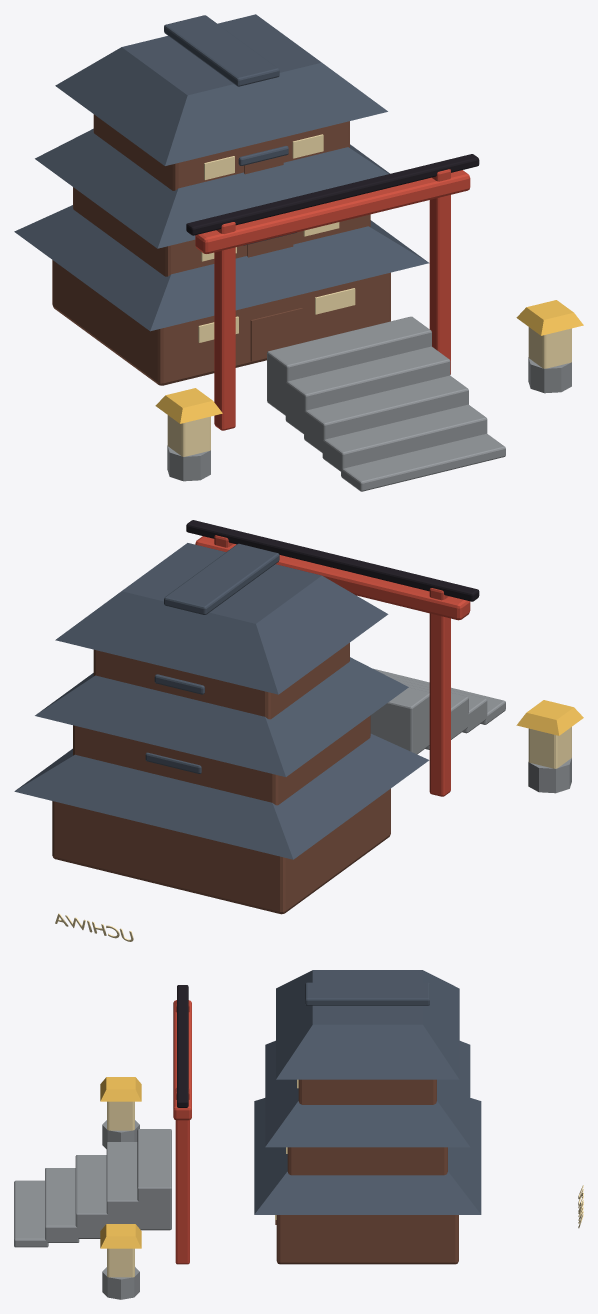
The model's file is 01_uchiwa.glb.
The picture shows the model from 3 angles, top to bottom: view 1: azimuth 30°, elevation 25°; view 2: azimuth 150°, elevation 25°; view 3: azimuth 270°, elevation 25°; orthographic projection. The views are drawn at different scales.
Visible parts, largest first — view 1: tier_0_body; view 2: tier_0_body; view 3: tier_0_body.
Part boxes in pixels (bbox=[...]): tier_0_body: bbox=[14, 14, 583, 491]; tier_0_body: bbox=[14, 520, 583, 914]; tier_0_body: bbox=[14, 970, 481, 1299].
Size of the model in its own units: 8.67 by 5.61 by 12.7.
